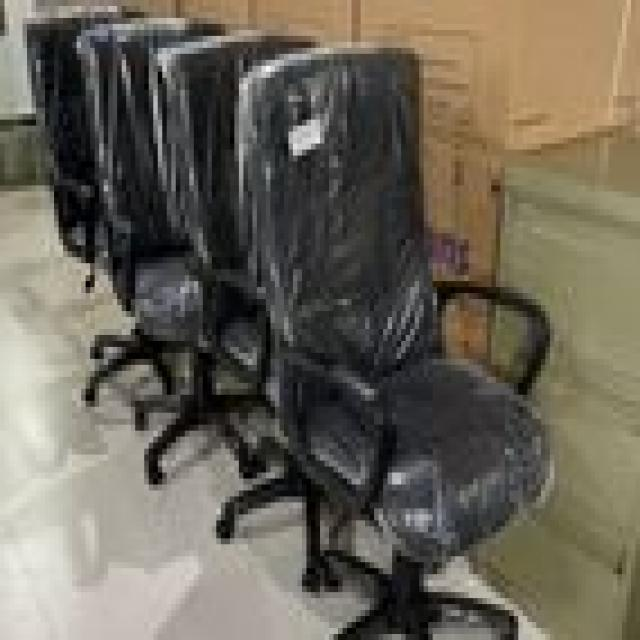others: (18, 6, 604, 640)
